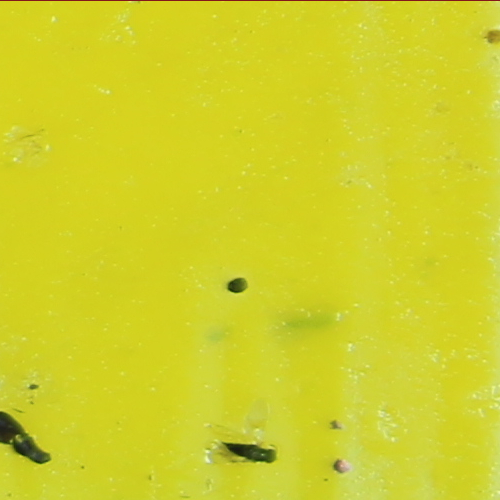wasp: (218, 439, 280, 462)
